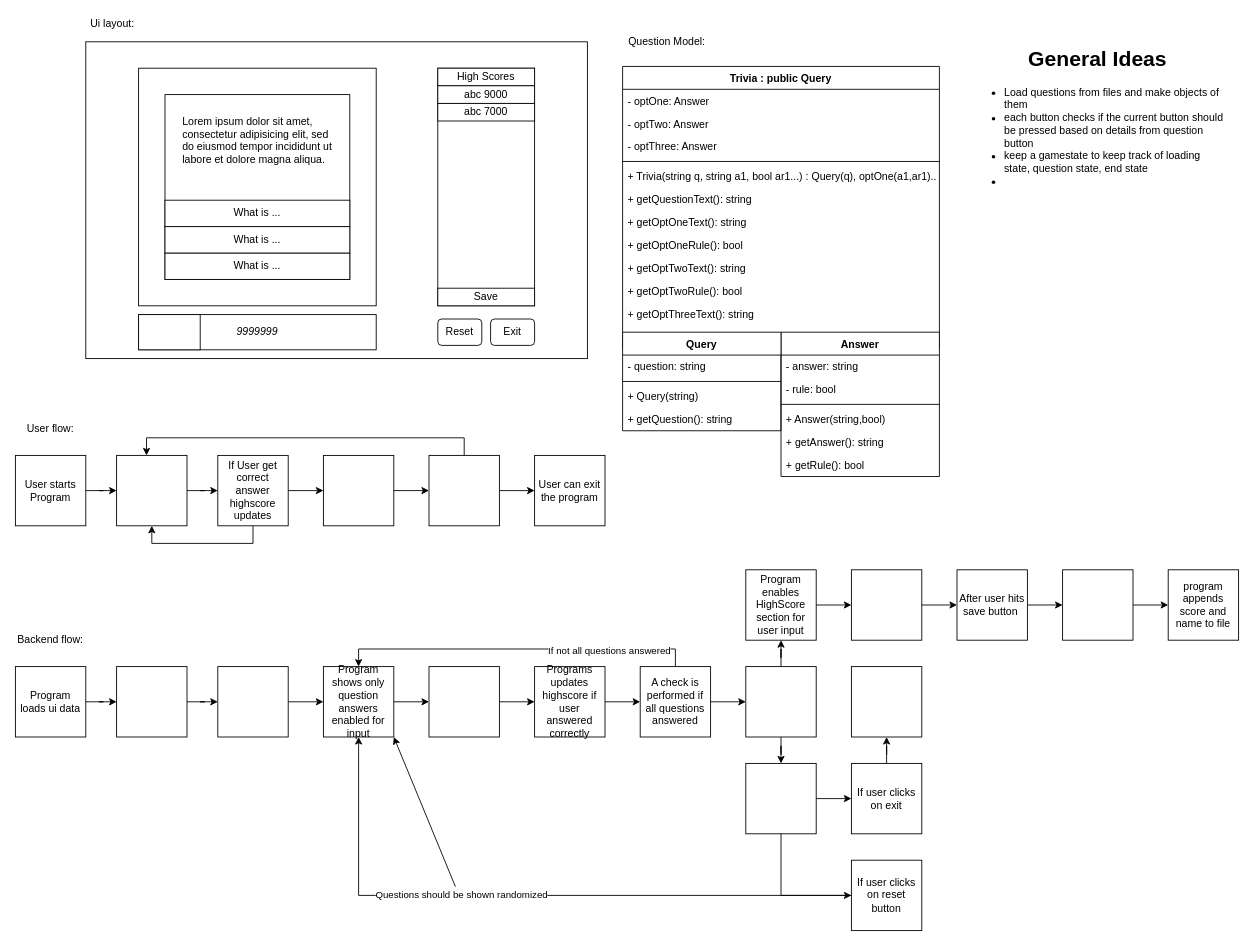
The diagram is 1254 pixels wide and 946 high, and some of its shapes have lost their labels. Each missing label, with the centre of its shape:
a new text box appears for user initial input: the point at 886,604
highscore section disables: the point at 1097,604
If User finishes all questions they enter initials for high score: the point at 358,490
If user selects an answer a check is performed if it's correct: the point at 463,701
Program disables question when all questions answered: the point at 780,701
Program enables reset and exit buttons: the point at 780,798
Program loads a series of questions from file: the point at 151,701
Program loads and highscores from file: the point at 252,701
Program Terminates: the point at 886,701
SCORE:: the point at 169,332
User can restart the questions: the point at 463,490
User clicks on one of the three buttons available to answer question: the point at 151,490
